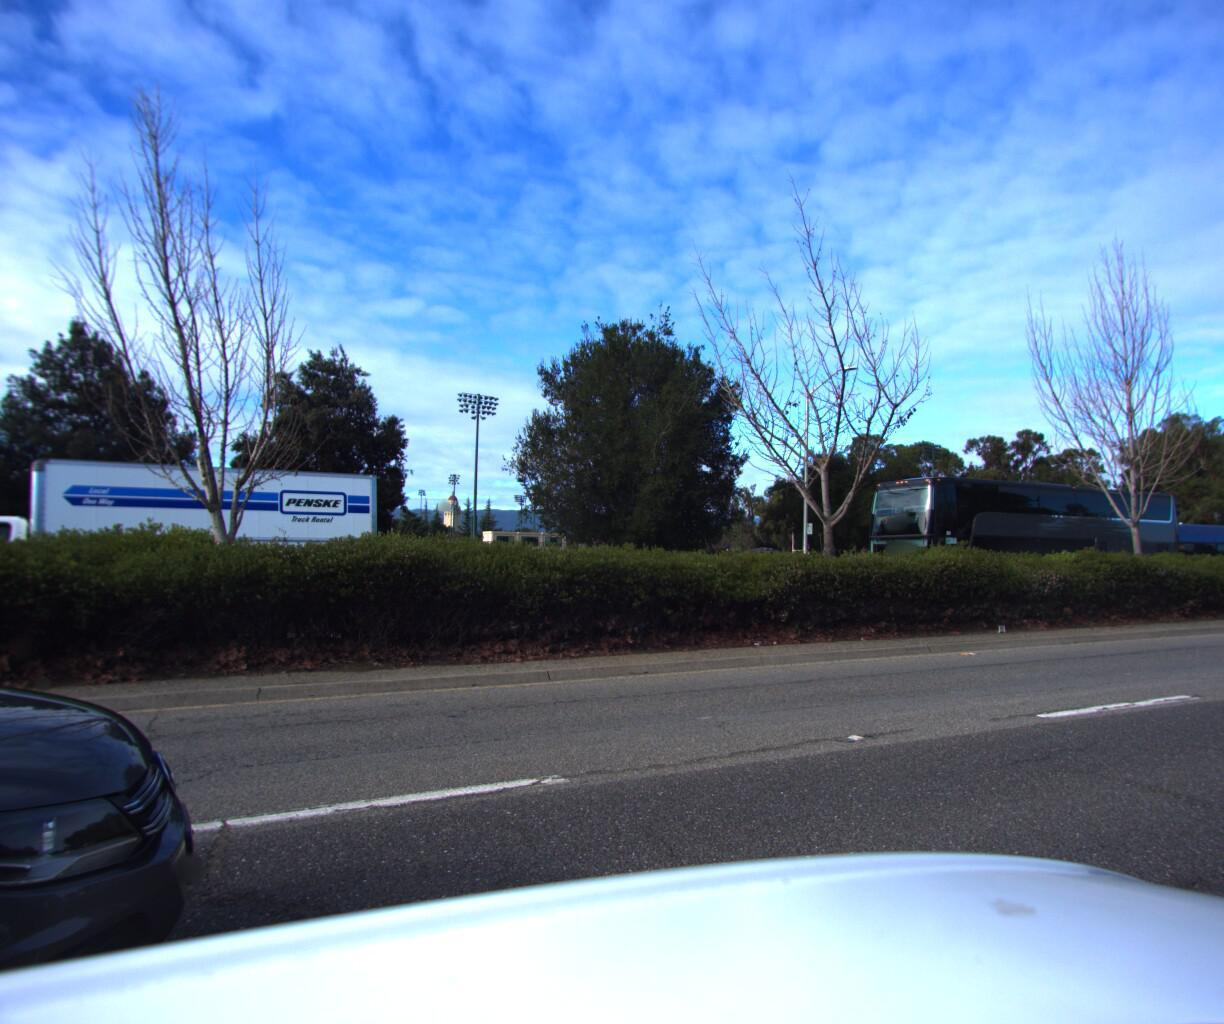bus: (859, 462, 1199, 597), (1058, 503, 1224, 591)
truck: (0, 417, 391, 653)
